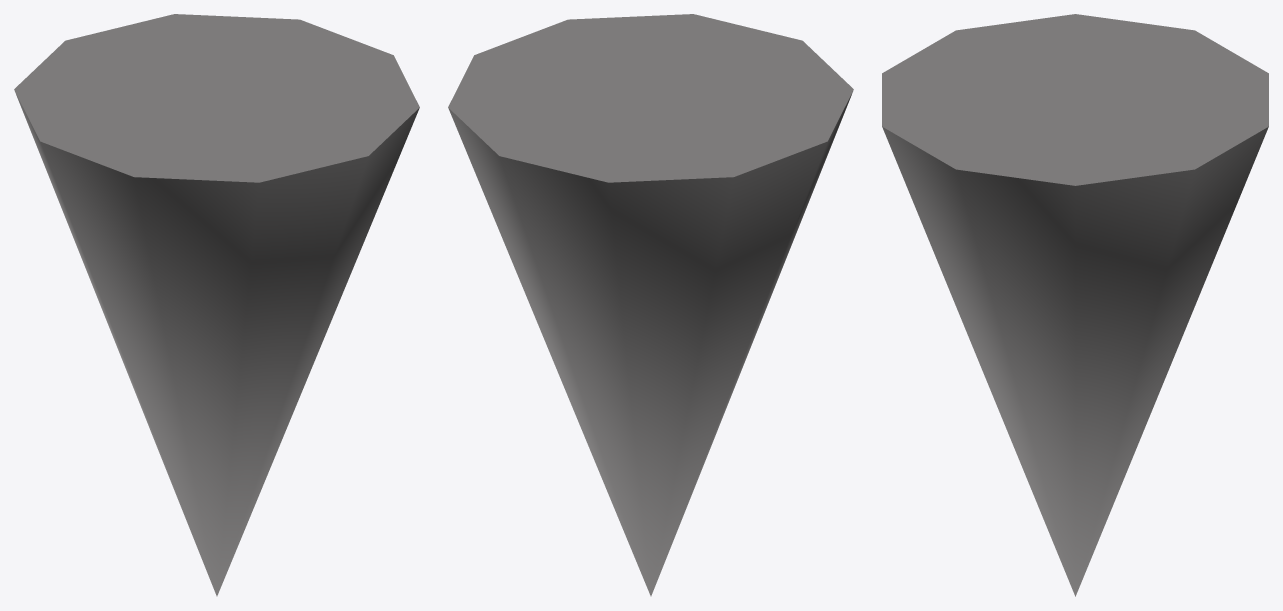
Rendered from CONEOFPOWER_YELLOW.fbx.
3 renders of one model, left to right at view 1: azimuth 30°, elevation 25°; view 2: azimuth 150°, elevation 25°; view 3: azimuth 270°, elevation 25°, orthographic.
Parts seen in each view (by area): view 1: CONEOFPOWER_YELLOW; view 2: CONEOFPOWER_YELLOW; view 3: CONEOFPOWER_YELLOW.
Boxes of the visible parts, <box> form: CONEOFPOWER_YELLOW: <box>14,14,419,596</box>; CONEOFPOWER_YELLOW: <box>448,14,853,596</box>; CONEOFPOWER_YELLOW: <box>882,14,1268,596</box>.
Size of the model in its own units: 2808 by 3785 by 2670.
2 materials, 2 textured.
